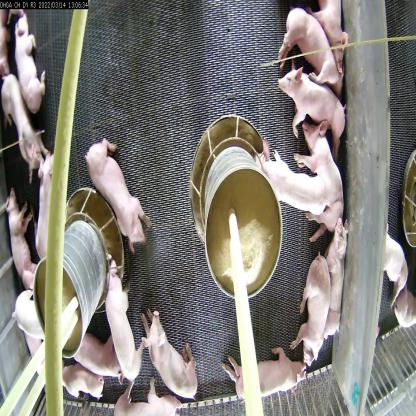Pig: (80, 134, 155, 256), (275, 60, 350, 160), (250, 134, 330, 226), (290, 118, 346, 244), (136, 305, 203, 402), (100, 254, 146, 387), (273, 7, 340, 91), (0, 71, 47, 183), (290, 248, 329, 379), (220, 349, 308, 403), (0, 182, 41, 292), (11, 13, 52, 119), (66, 319, 129, 387), (378, 218, 412, 313), (34, 151, 62, 264), (327, 213, 351, 339), (312, 2, 350, 78), (108, 378, 184, 415), (53, 359, 107, 405), (9, 288, 48, 346), (390, 278, 416, 338)
